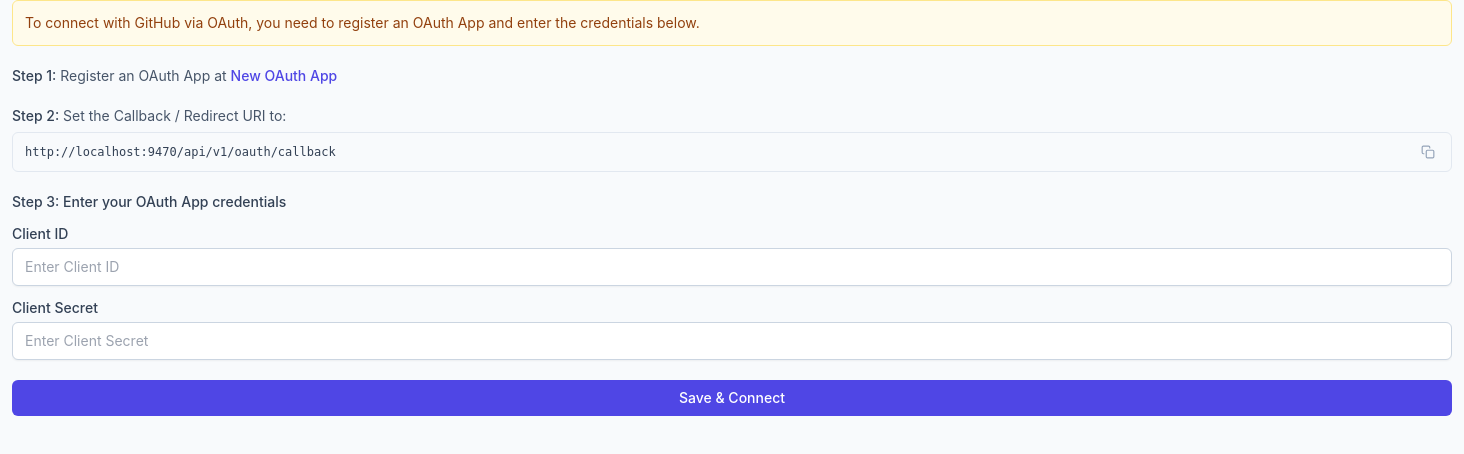
OAuthSetupStep - not configured state › shows validation error when client_id is empty on save
Click the button "Save & Connect": (732, 398) x1=12 y1=380 x2=1452 y2=416
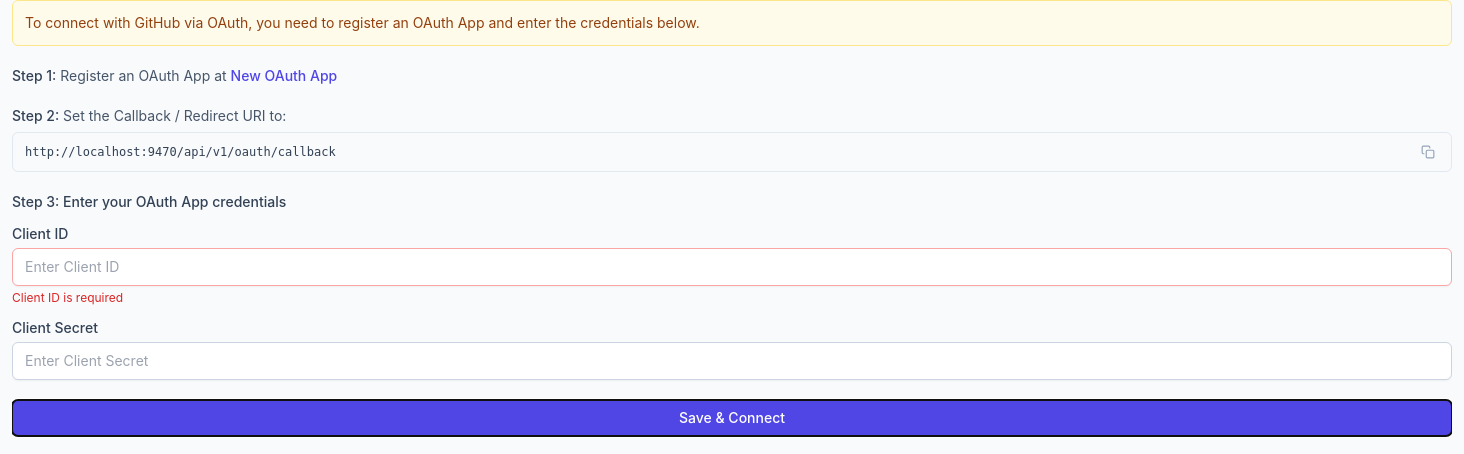
expect the text "Client ID is required" is shown: met, box x1=12 y1=290 x2=123 y2=305
